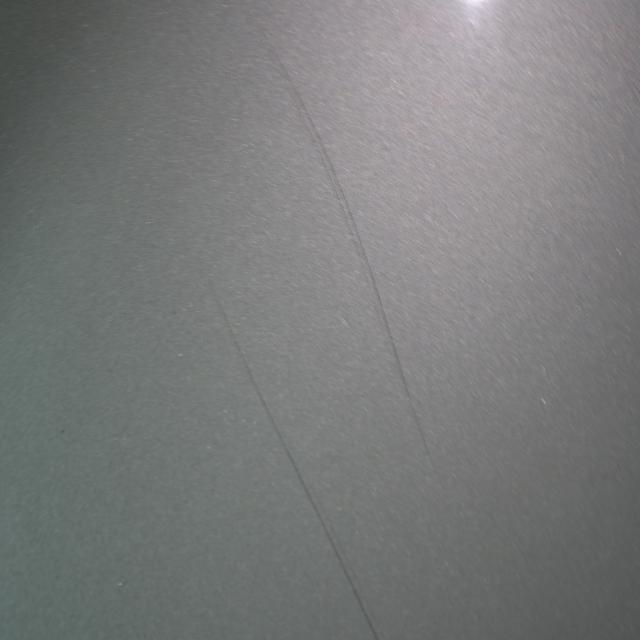scratch: (260, 24, 442, 477), (207, 271, 384, 640)
